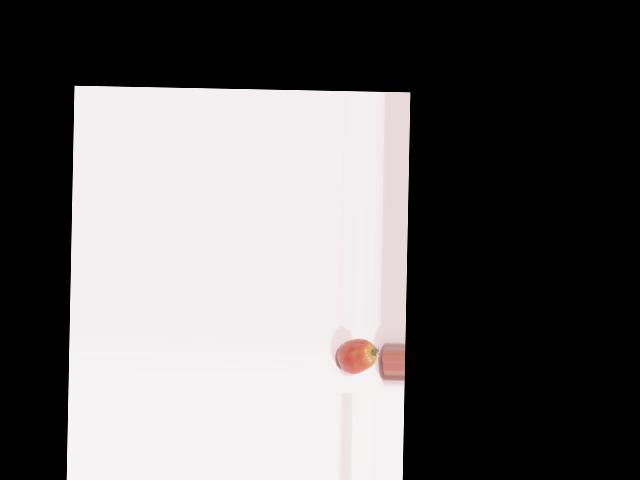tomato: (337, 338, 377, 374)
